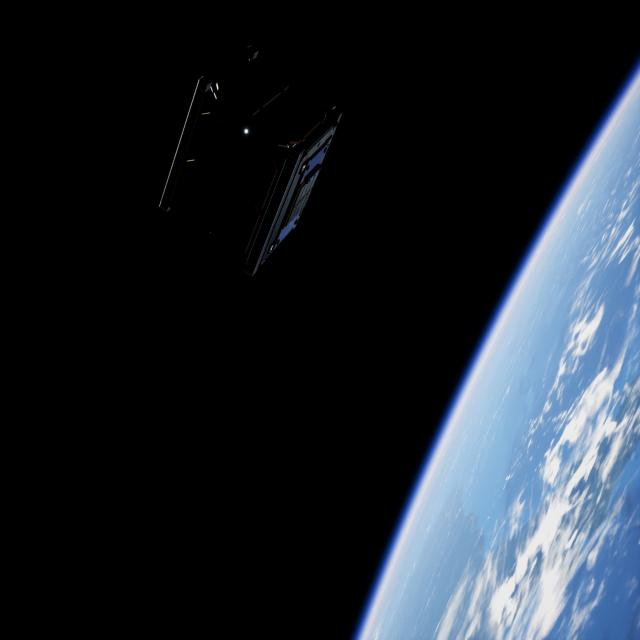medium_debris: (161, 47, 342, 281)
